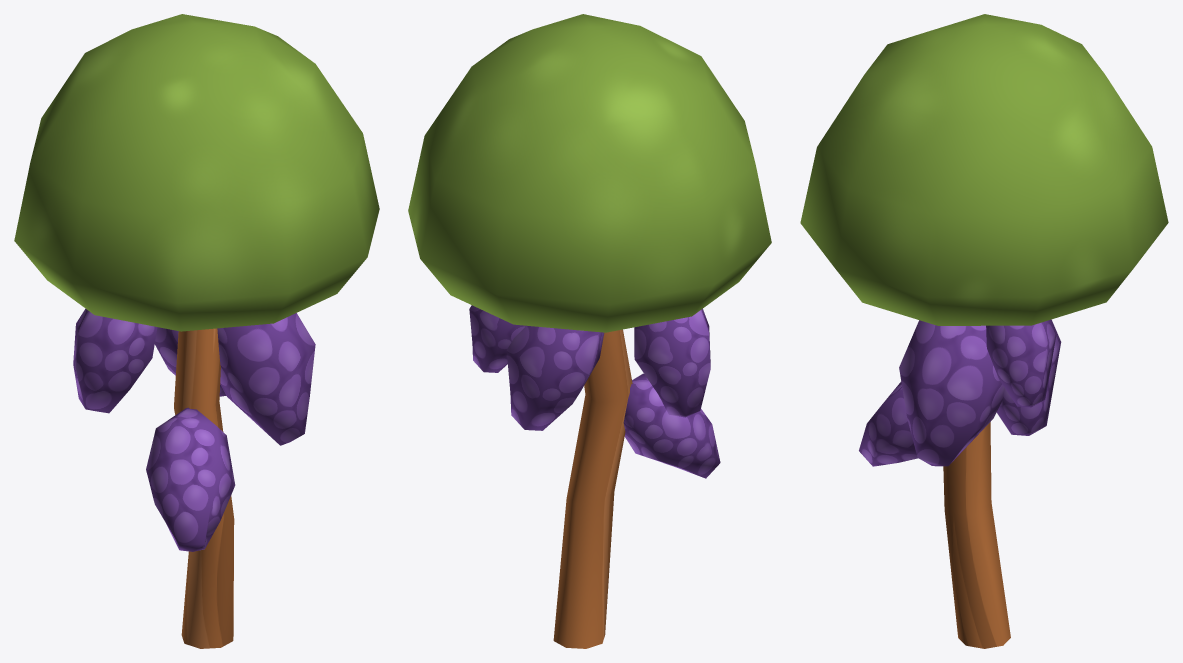
The model's file is Arvore_2_Uva.fbx.
3 views of the same model, side by side, from view 1: azimuth 30°, elevation 25°; view 2: azimuth 150°, elevation 25°; view 3: azimuth 270°, elevation 25° (orthographic).
Parts seen in each view (by area): view 1: Arvore_2_Uva; view 2: Arvore_2_Uva; view 3: Arvore_2_Uva.
Boxes of the visible parts, box(x1,y1,x2,y2) form: Arvore_2_Uva: box(14, 14, 379, 648); Arvore_2_Uva: box(408, 14, 771, 648); Arvore_2_Uva: box(800, 14, 1168, 648).
Size of the model in its own units: 68.45 by 131 by 71.97.
